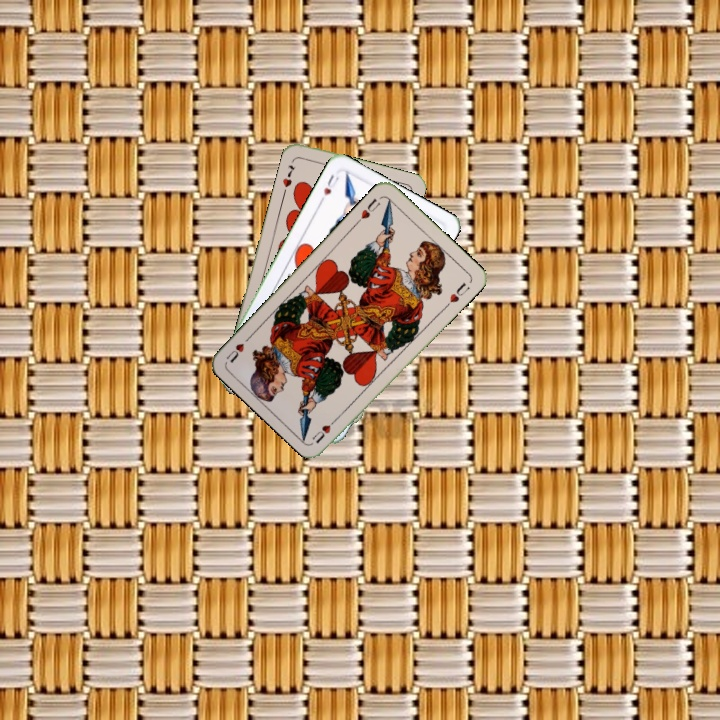H7: (279, 161, 298, 190)
HU: (308, 413, 342, 446), (353, 194, 383, 226), (316, 170, 341, 205)
